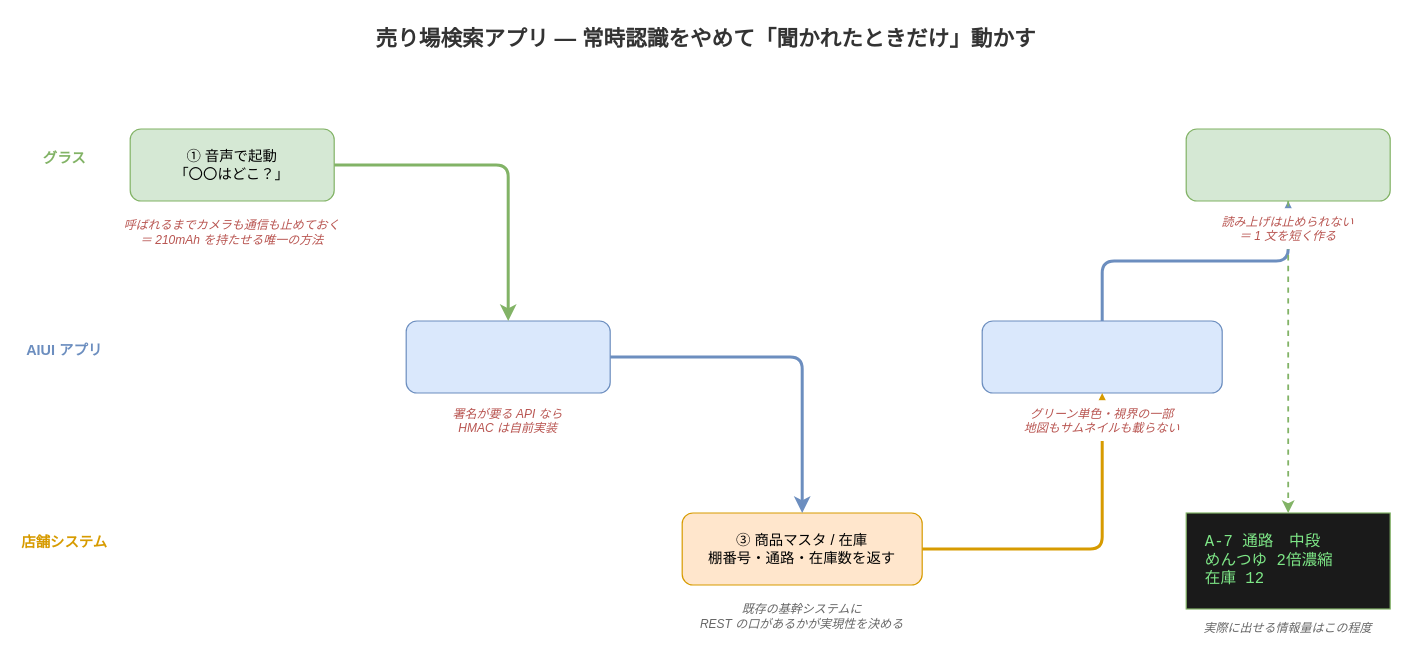
Some shapes in this 1422 by 660 pixel diagram are drawn without their labels. The shapes that lost their labels are listed below. From the top down, each one's centre as x and y in pixels, then its label:
At point 1287,164: "⑤ 視界に表示 ＋ 読み上げ スワイプで次候補".
At point 507,356: "② 商品名を照会 fetch (Internet 権限)".
At point 1101,356: "④ 表示を最小化 通路 / 棚段 / 在庫の 3 行だけ".
